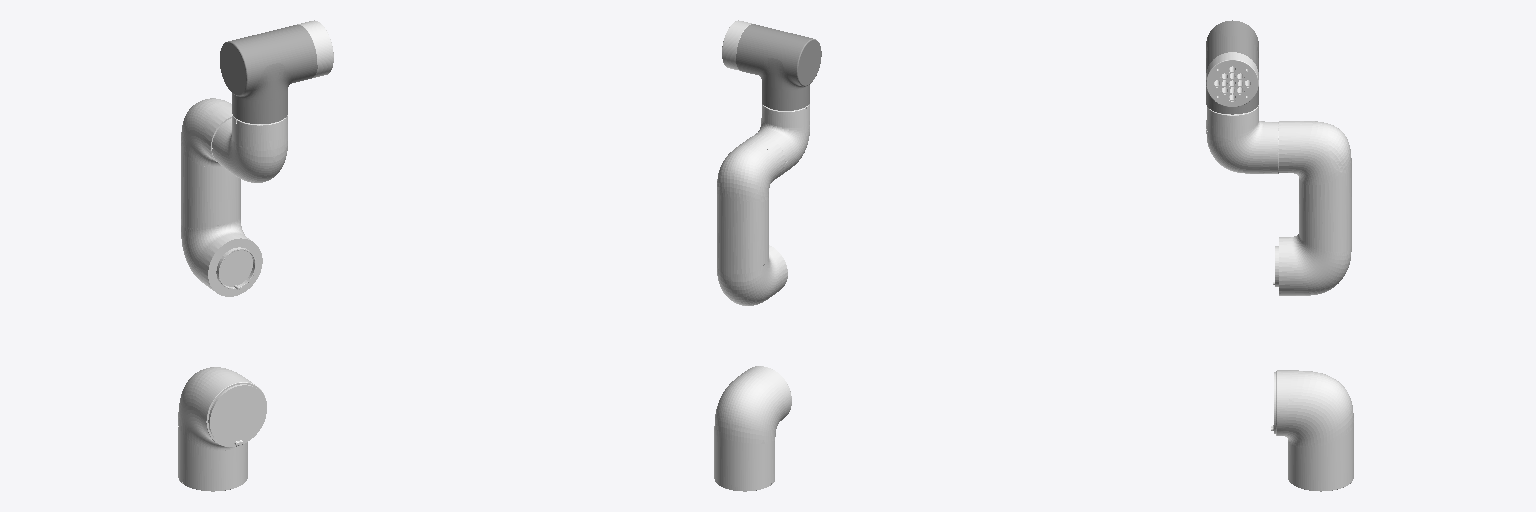
robot.urdf — mycobot_280_jn:
<?xml version="1.0"?>
<robot name="mycobot_280_jn">
  <link name="world"/>
  <joint name="world_to_g_base" type="fixed"><parent link="world"/><child link="g_base"/><origin xyz="0 0 0" rpy="0 0 0"/></joint>

  <link name="g_base">
    <visual>
      <geometry><mesh filename="package://mycobot_description/urdf/mycobot_280_jn_sim/meshes/visual/g_base.dae"/></geometry>
    </visual>
    <collision>
      <geometry><mesh filename="package://mycobot_description/urdf/mycobot_280_jn_sim/meshes/collision/g_base.stl"/></geometry>
    </collision>
    <inertial>
      <origin xyz="0.000004 0.000000 0.016000" rpy="0 0 0"/>
      <mass value="1.00000"/>
      <inertia ixx="1.9413e-03" ixy="3.1506e-09" ixz="8.1608e-14" iyy="1.0835e-03" iyz="-2.2217e-08" izz="2.8542e-03"/>
    </inertial>
  </link>
  <joint name="g_base_to_joint1" type="fixed"><parent link="g_base"/><child link="joint1"/><origin xyz="0 0 0.0320" rpy="0 0 0"/></joint>

  <link name="joint1">
    <visual>
      <geometry><mesh filename="package://mycobot_description/urdf/mycobot_280_jn_sim/meshes/visual/joint1.dae"/></geometry>
    </visual>
    <collision>
      <geometry><mesh filename="package://mycobot_description/urdf/mycobot_280_jn_sim/meshes/collision/joint1.stl"/></geometry>
    </collision>
    <inertial>
      <origin xyz="-0.000007 -0.000080 0.049738" rpy="0 0 0"/>
      <mass value="0.51726"/>
      <inertia ixx="1.2523e-03" ixy="7.0339e-09" ixz="-6.3450e-08" iyy="9.3955e-04" iyz="1.1529e-06" izz="1.2061e-03"/>
    </inertial>
  </link>
  <link name="joint2">
    <visual>
      <geometry><mesh filename="package://mycobot_description/urdf/mycobot_280_jn_sim/meshes/visual/joint2.dae"/></geometry>
    </visual>
    <collision>
      <geometry><mesh filename="package://mycobot_description/urdf/mycobot_280_jn_sim/meshes/collision/joint2.stl"/></geometry>
    </collision>
    <inertial>
      <origin xyz="-0.000000 -0.006642 -0.021543" rpy="0 0 0"/>
      <mass value="0.06483"/>
      <inertia ixx="4.7296e-05" ixy="-1.4455e-10" ixz="4.0893e-11" iyy="4.2690e-05" iyz="5.2950e-06" izz="2.4363e-05"/>
    </inertial>
  </link>
  <link name="joint3">
    <visual>
      <geometry><mesh filename="package://mycobot_description/urdf/mycobot_280_jn_sim/meshes/visual/joint3.dae"/></geometry>
    </visual>
    <collision>
      <geometry><mesh filename="package://mycobot_description/urdf/mycobot_280_jn_sim/meshes/collision/joint3.stl"/></geometry>
    </collision>
    <inertial>
      <origin xyz="-0.054329 -0.000001 0.055329" rpy="0 0 0"/>
      <mass value="0.11472"/>
      <inertia ixx="4.1667e-05" ixy="-4.5301e-09" ixz="-7.2144e-07" iyy="2.1506e-04" iyz="-8.8599e-10" izz="2.0847e-04"/>
    </inertial>
  </link>
  <link name="joint4">
    <visual>
      <geometry><mesh filename="package://mycobot_description/urdf/mycobot_280_jn_sim/meshes/visual/joint4.dae"/></geometry>
    </visual>
    <collision>
      <geometry><mesh filename="package://mycobot_description/urdf/mycobot_280_jn_sim/meshes/collision/joint4.stl"/></geometry>
    </collision>
    <inertial>
      <origin xyz="-0.045854 0.000000 0.007555" rpy="0 0 0"/>
      <mass value="0.09148"/>
      <inertia ixx="3.0829e-05" ixy="2.4590e-09" ixz="-3.0073e-06" iyy="1.3707e-04" iyz="1.3305e-09" izz="1.2859e-04"/>
    </inertial>
  </link>
  <link name="joint5">
    <visual>
      <geometry><mesh filename="package://mycobot_description/urdf/mycobot_280_jn_sim/meshes/visual/joint5.dae"/></geometry>
    </visual>
    <collision>
      <geometry><mesh filename="package://mycobot_description/urdf/mycobot_280_jn_sim/meshes/collision/joint5.stl"/></geometry>
    </collision>
    <inertial>
      <origin xyz="0.000001 -0.009519 -0.008481" rpy="0 0 0"/>
      <mass value="0.02935"/>
      <inertia ixx="1.1293e-05" ixy="2.2528e-10" ixz="1.0500e-10" iyy="8.1426e-06" iyz="1.6096e-06" izz="8.8742e-06"/>
    </inertial>
  </link>
  <link name="joint6">
    <visual>
      <geometry><mesh filename="package://mycobot_description/urdf/mycobot_280_jn_sim/meshes/visual/joint6.dae"/></geometry>
    </visual>
    <collision>
      <geometry><mesh filename="package://mycobot_description/urdf/mycobot_280_jn_sim/meshes/collision/joint6.stl"/></geometry>
    </collision>
    <inertial>
      <origin xyz="-0.000000 0.005619 -0.009142" rpy="0 0 0"/>
      <mass value="0.03671"/>
      <inertia ixx="1.6852e-05" ixy="1.3225e-11" ixz="9.2639e-11" iyy="1.2050e-05" iyz="-8.3674e-07" izz="1.2581e-05"/>
    </inertial>
  </link>
  <link name="joint6_flange">
    <visual>
      <geometry><mesh filename="package://mycobot_description/urdf/mycobot_280_jn_sim/meshes/visual/joint6_flange.dae"/></geometry>
    </visual>
    <collision>
      <geometry><mesh filename="package://mycobot_description/urdf/mycobot_280_jn_sim/meshes/collision/joint6_flange.stl"/></geometry>
    </collision>
    <inertial>
      <origin xyz="-0.000000 -0.000000 -0.005150" rpy="0 0 0"/>
      <mass value="0.00565"/>
      <inertia ixx="6.0852e-07" ixy="-5.1861e-24" ixz="1.4684e-24" iyy="6.0852e-07" iyz="-7.5632e-16" izz="1.0405e-06"/>
    </inertial>
  </link>
  <joint name="joint2_to_joint1" type="revolute">
    <parent link="joint1"/><child link="joint2"/>
    <origin xyz="0 0 0.15756" rpy="0 0 0"/>
    <axis xyz="0 0 1"/>
    <limit effort="10.0" lower="-2.9321" upper="2.9321" velocity="1.0"/>
    <dynamics damping="0.1" friction="0.01"/>
  </joint>
  <joint name="joint3_to_joint2" type="revolute">
    <parent link="joint2"/><child link="joint3"/>
    <origin xyz="0 0 -0.001" rpy="0 1.5708 -1.5708"/>
    <axis xyz="0 0 1"/>
    <limit effort="10.0" lower="-2.4434" upper="2.4434" velocity="1.0"/>
    <dynamics damping="0.1" friction="0.01"/>
  </joint>
  <joint name="joint4_to_joint3" type="revolute">
    <parent link="joint3"/><child link="joint4"/>
    <origin xyz="-0.1104 0 0" rpy="0 0 0"/>
    <axis xyz="0 0 1"/>
    <limit effort="10.0" lower="-2.6179" upper="2.6179" velocity="1.0"/>
    <dynamics damping="0.1" friction="0.01"/>
  </joint>
  <joint name="joint5_to_joint4" type="revolute">
    <parent link="joint4"/><child link="joint5"/>
    <origin xyz="-0.096 0 0.06462" rpy="0 0 -1.5708"/>
    <axis xyz="0 0 1"/>
    <limit effort="10.0" lower="-2.6179" upper="2.6179" velocity="1.0"/>
    <dynamics damping="0.1" friction="0.01"/>
  </joint>
  <joint name="joint6_to_joint5" type="revolute">
    <parent link="joint5"/><child link="joint6"/>
    <origin xyz="0 -0.07318 0" rpy="1.5708 -1.5708 0"/>
    <axis xyz="0 0 1"/>
    <limit effort="10.0" lower="-2.7052" upper="2.7925" velocity="1.0"/>
    <dynamics damping="0.1" friction="0.01"/>
  </joint>
  <joint name="joint6output_to_joint6" type="revolute">
    <parent link="joint6"/><child link="joint6_flange"/>
    <origin xyz="0 0.0456 0" rpy="-1.5708 0 0"/>
    <axis xyz="0 0 1"/>
    <limit effort="10.0" lower="-3.14159" upper="3.14159" velocity="1.0"/>
    <dynamics damping="0.1" friction="0.01"/>
  </joint>

  <!-- Gazebo: gravity off on the moving links (passive joints would otherwise fall; no controller yet) -->
  <gazebo reference="joint2"><turnGravityOff>true</turnGravityOff></gazebo>
  <gazebo reference="joint3"><turnGravityOff>true</turnGravityOff></gazebo>
  <gazebo reference="joint4"><turnGravityOff>true</turnGravityOff></gazebo>
  <gazebo reference="joint5"><turnGravityOff>true</turnGravityOff></gazebo>
  <gazebo reference="joint6"><turnGravityOff>true</turnGravityOff></gazebo>
  <gazebo reference="joint6_flange"><turnGravityOff>true</turnGravityOff></gazebo>
</robot>

--- Facts derived from the render (not from the file) ---
The picture shows the robot from 3 angles, left to right: view 1: azimuth 30°, elevation 25°; view 2: azimuth 150°, elevation 25°; view 3: azimuth 270°, elevation 25°; orthographic projection.
Robot: mycobot_280_jn — 9 links, 8 joints (6 revolute, 2 fixed); root link world; default pose: every joint at zero.
Visible links, largest first — view 1: joint4, joint2, joint6, joint5, joint6_flange; view 2: joint4, joint2, joint6, joint5, joint6_flange; view 3: joint4, joint2, joint5, joint6_flange, joint6.
Boxes of the visible links, <box> form: joint4: <box>181,98,262,296</box>; joint2: <box>178,367,266,491</box>; joint6: <box>220,25,317,123</box>; joint5: <box>212,115,287,182</box>; joint6_flange: <box>297,20,333,77</box>; joint4: <box>717,135,787,305</box>; joint2: <box>714,366,791,491</box>; joint6: <box>736,24,821,110</box>; joint5: <box>755,104,809,176</box>; joint6_flange: <box>722,20,751,70</box>; joint4: <box>1273,121,1351,295</box>; joint2: <box>1271,370,1353,491</box>; joint5: <box>1206,105,1278,173</box>; joint6_flange: <box>1206,52,1258,106</box>; joint6: <box>1206,20,1258,114</box>.
Size in the robot's own frame: 0.0713 by 0.1078 by 0.3619 metres.
5 mesh visuals loaded from 8 distinct referenced files (5 Collada DAE); not drawn: 3 (reference not matched to a file when rendering).
